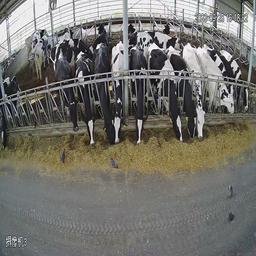cow: (149, 43, 183, 144), (92, 39, 115, 142), (74, 46, 98, 140), (205, 46, 234, 116), (114, 41, 130, 145), (132, 38, 147, 144), (56, 51, 77, 126), (182, 55, 198, 139), (197, 58, 212, 138), (236, 53, 251, 113), (35, 32, 51, 79)
